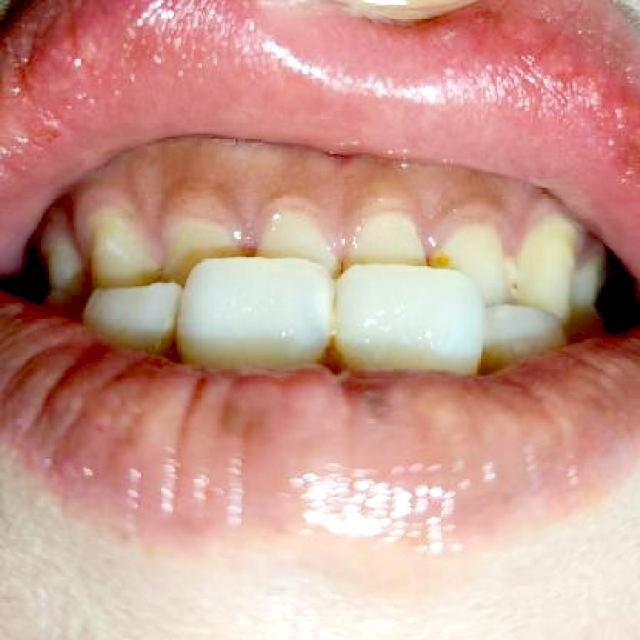Plaque: (494, 202, 600, 260), (146, 192, 234, 255), (67, 191, 144, 263), (241, 186, 337, 240), (347, 188, 430, 235)
